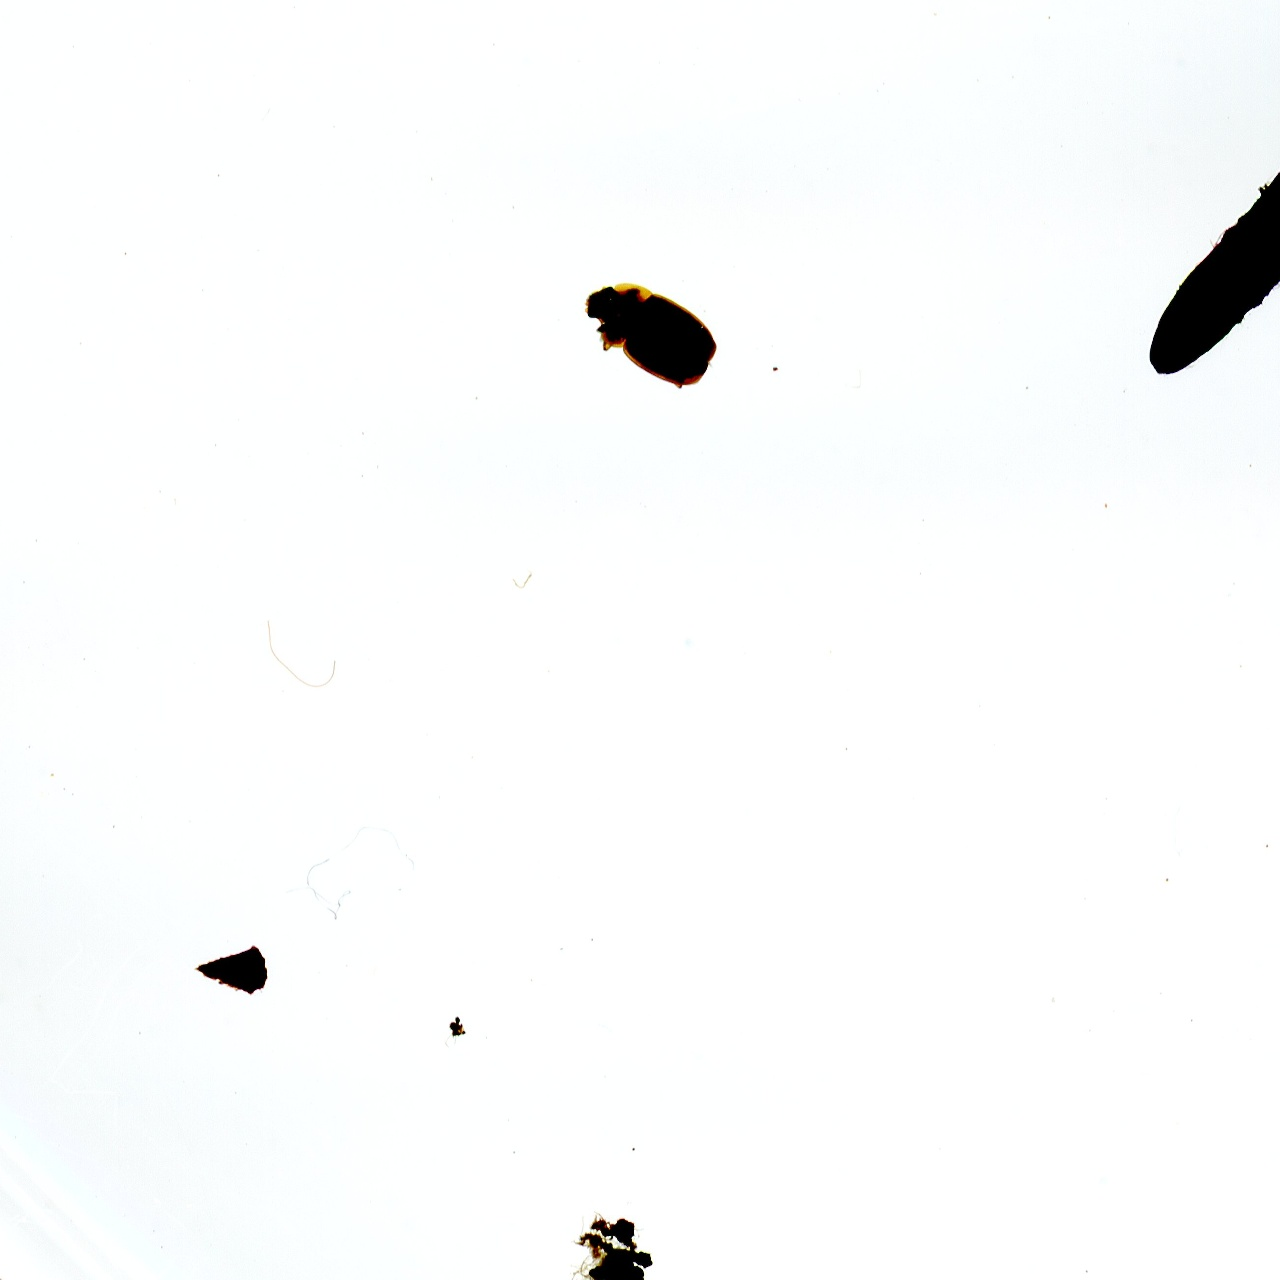arthropod: (561, 252, 736, 409)
